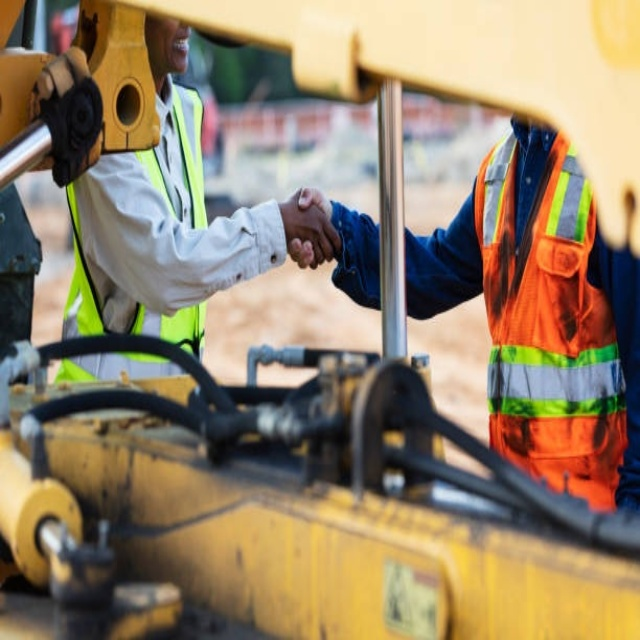Sin_guantes: (277, 182, 343, 273)
Sin_mascara: (160, 24, 192, 67)
